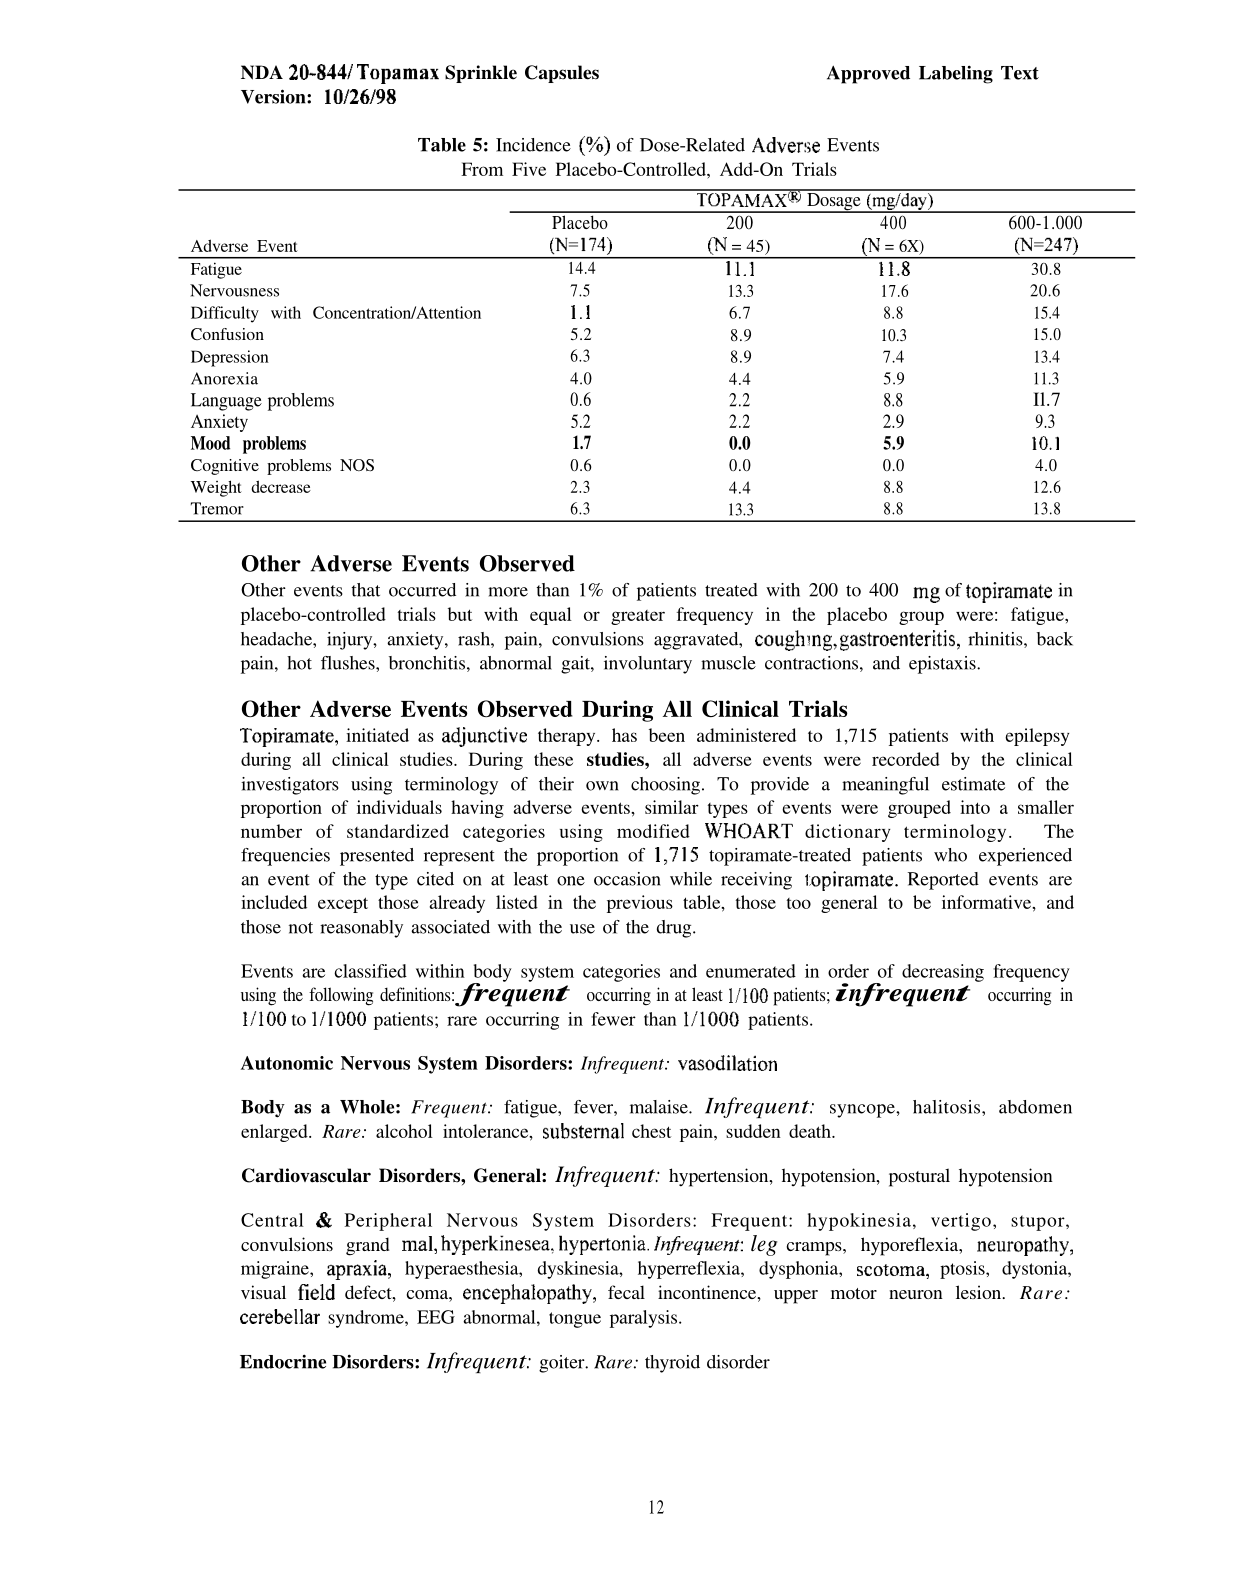partial_lined_merged_cells: (177, 187, 1138, 525)
